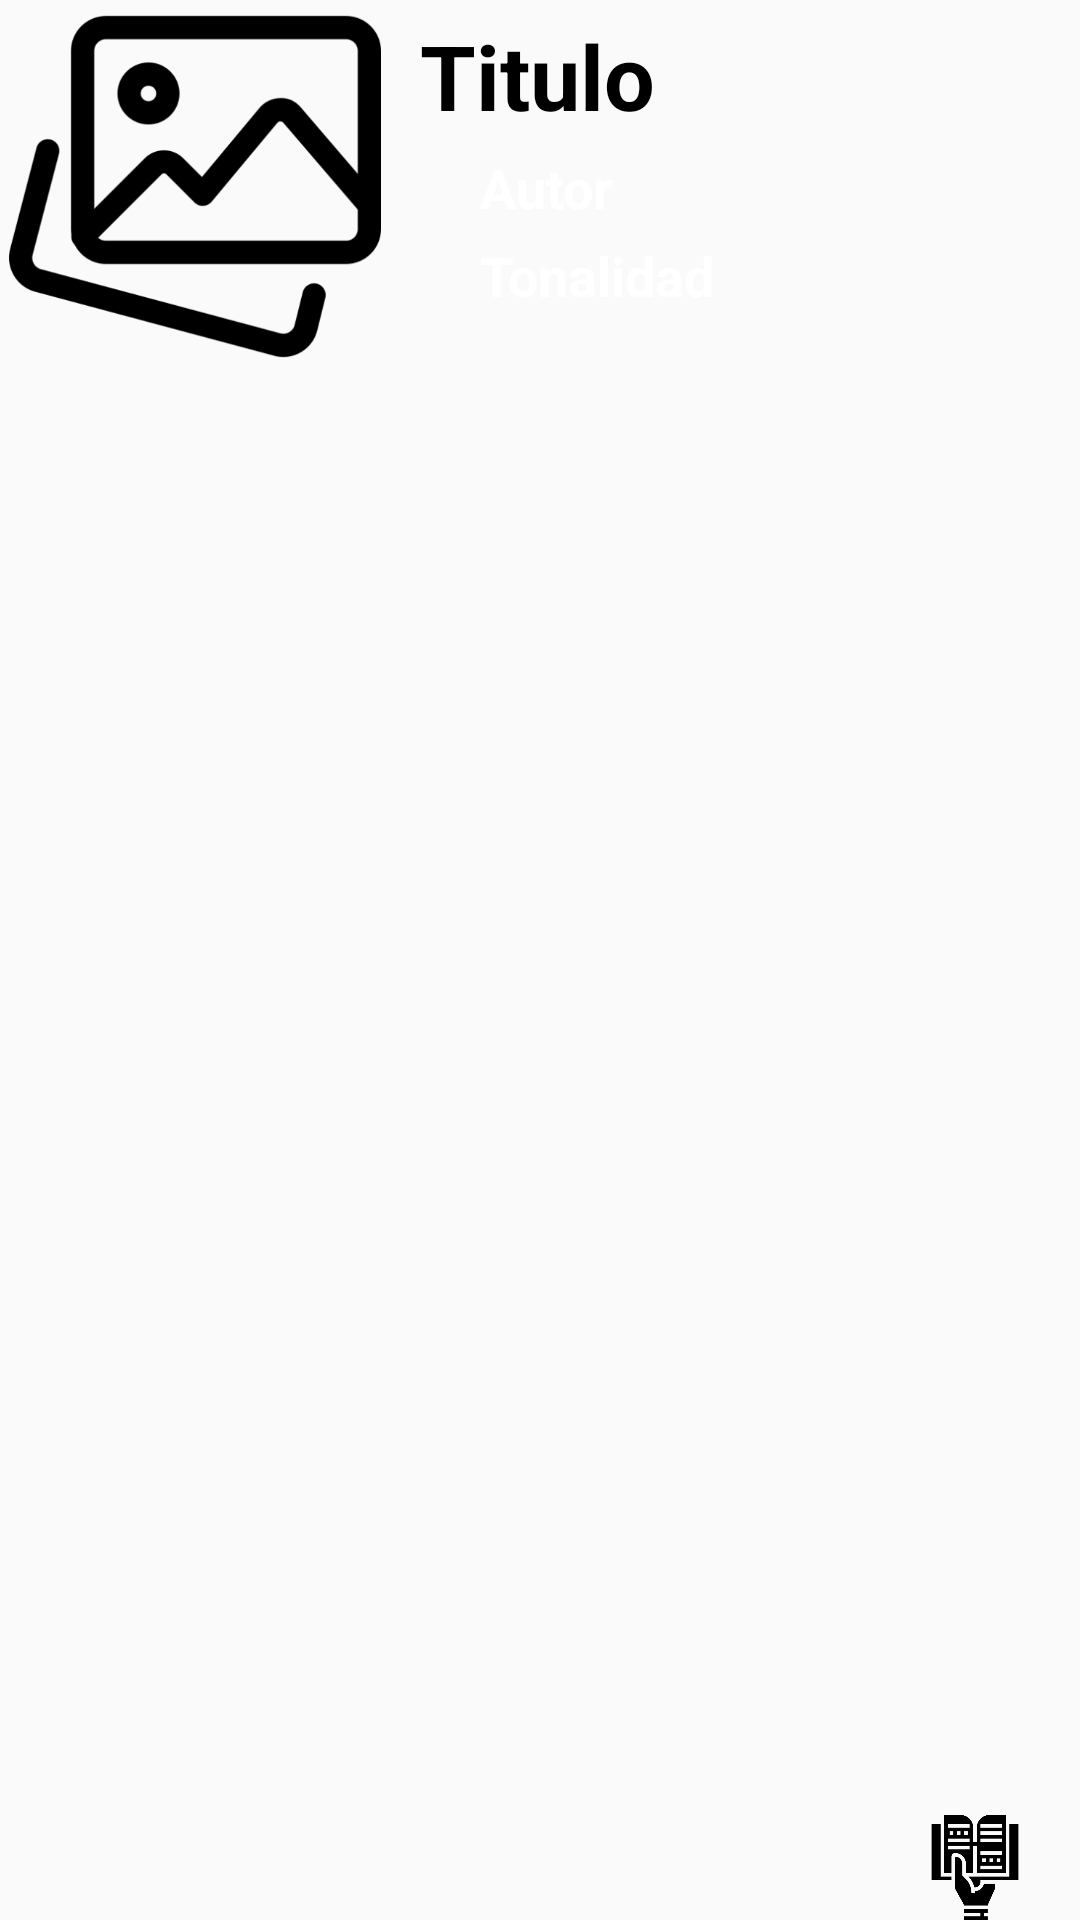

Screen size 1080px×1920px. Icon name, then its box in pixels as (x1, y1, x2, y2):
instruccion: (931, 1815, 1019, 1920)
